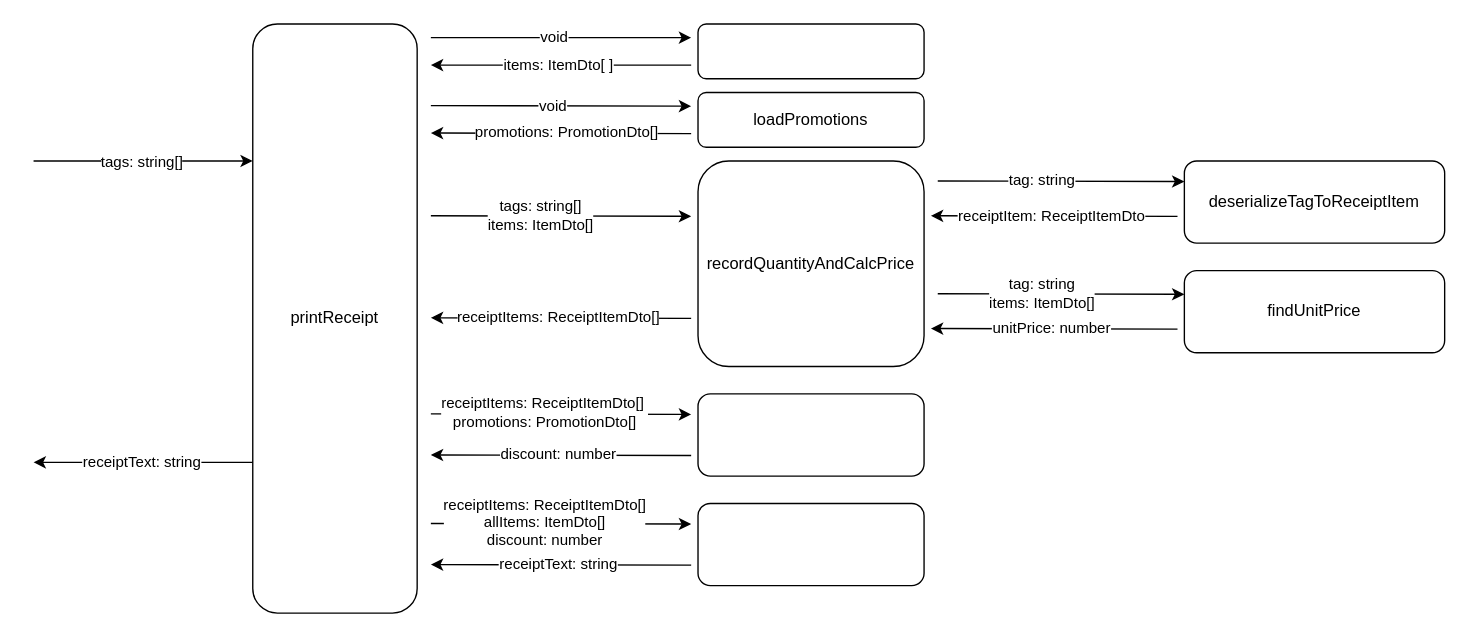
The diagram is 1469 pixels wide and 637 high, and some of its shapes have lost their labels. Here are the shapes that lost their labels. From the top down, the centre of each, then its label:
At point (810, 51): "loadAllItems".
At point (810, 434): "applyPromotion".
At point (810, 544): "render".
